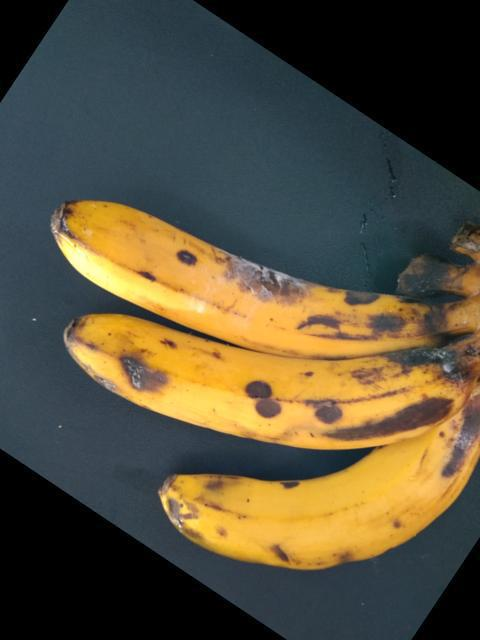overripe: (40, 187, 453, 354), (65, 310, 468, 436), (157, 415, 478, 570)
